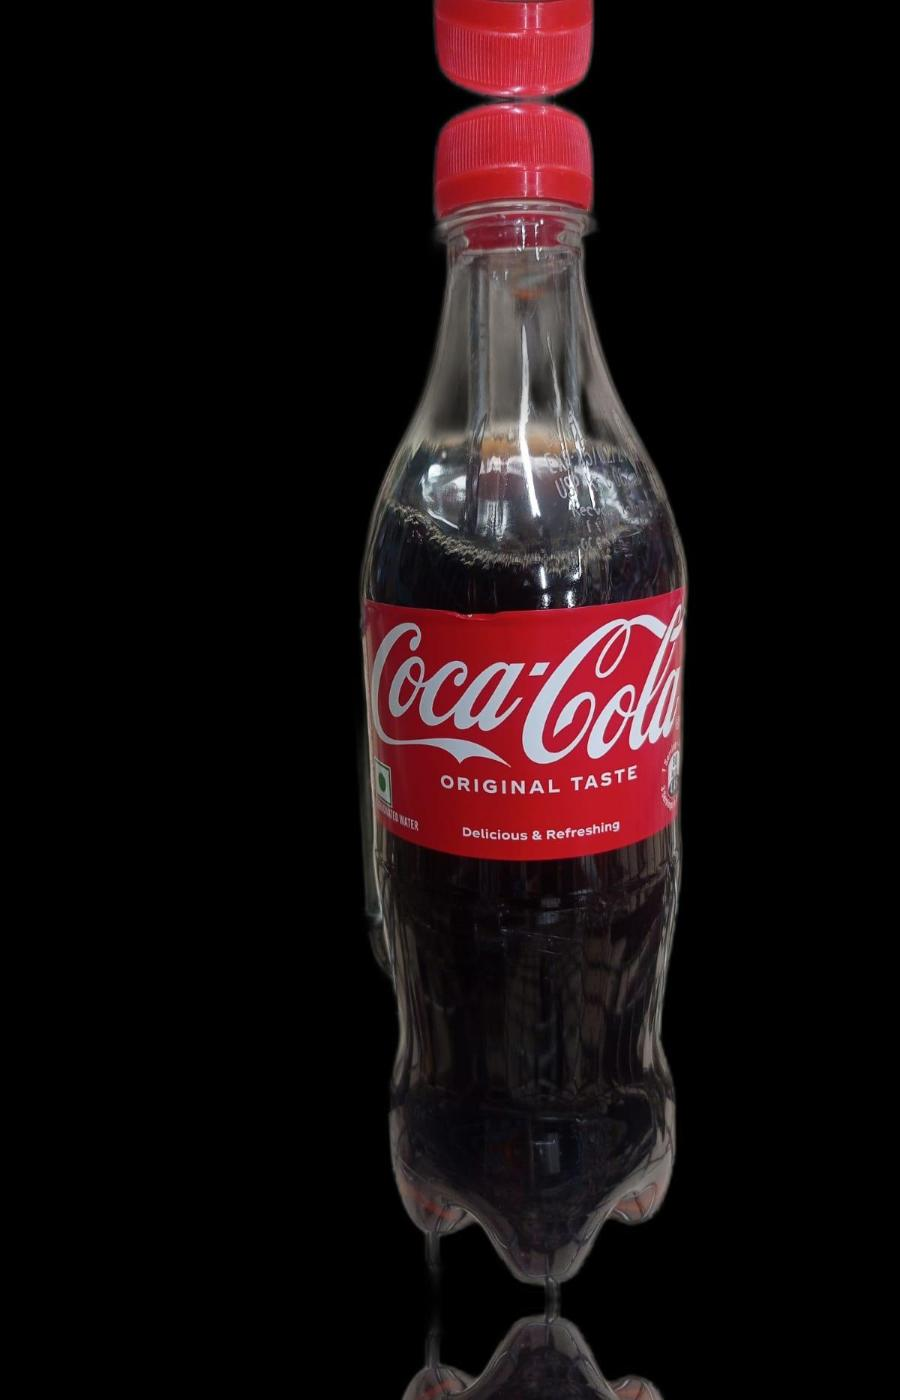Coca-Cola-600 ml-: (349, 100, 696, 1279)
